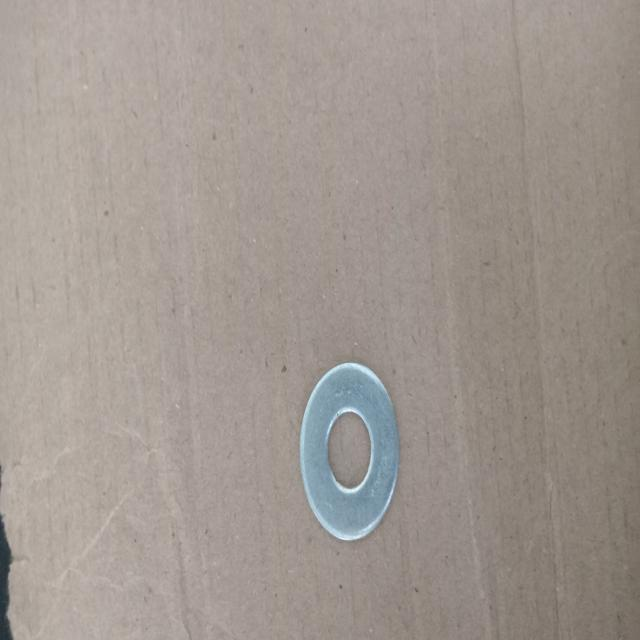washer: (300, 361, 400, 540)
